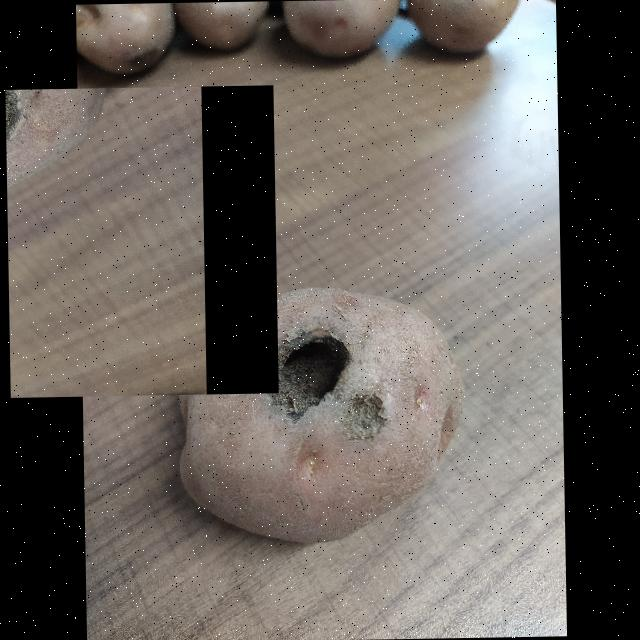Damaged potato: (4, 85, 277, 398)
